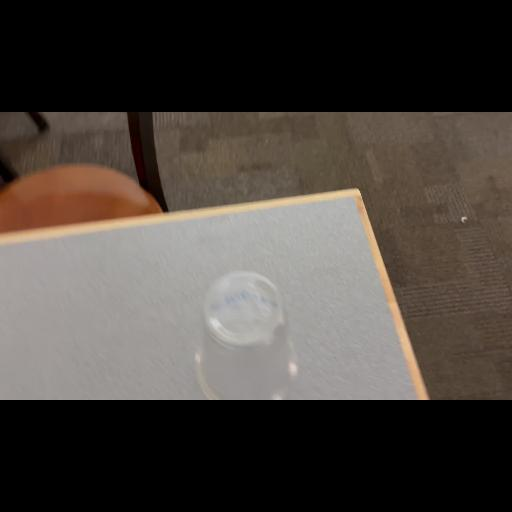lp_plastic_cup: (197, 272, 295, 398)
